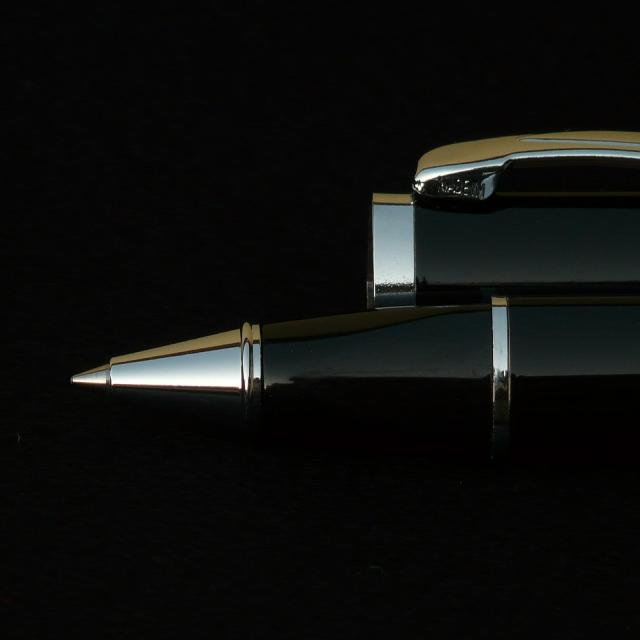pen: (47, 299, 640, 460)
